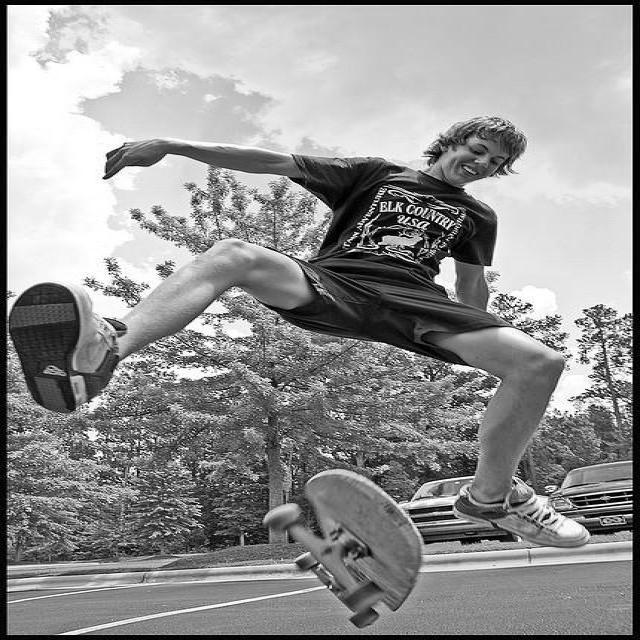vehicle: (394, 476, 528, 546), (399, 475, 519, 547), (539, 465, 640, 533)
